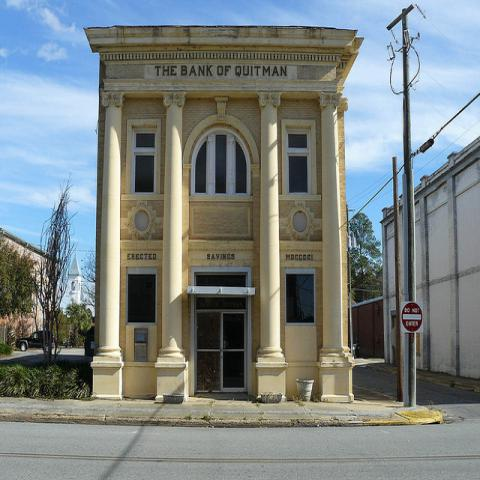car: (17, 330, 54, 353), (84, 325, 94, 356)
